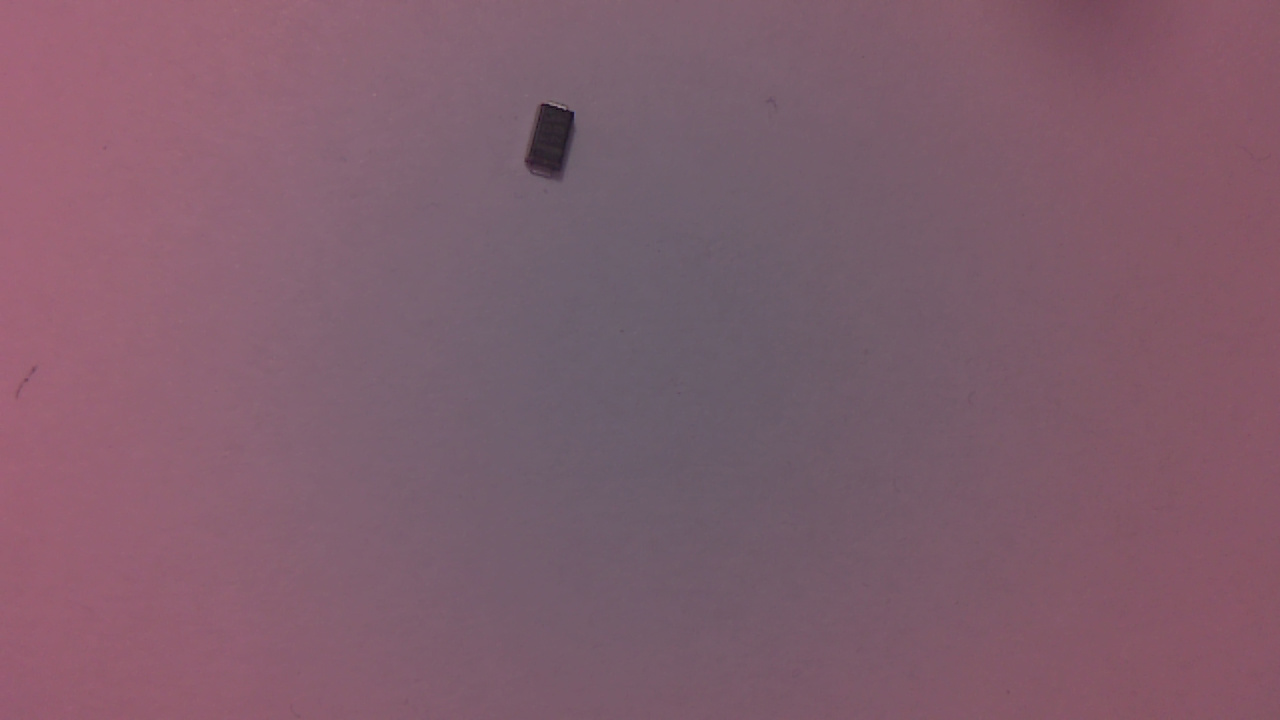Diode: (524, 97, 584, 189)
